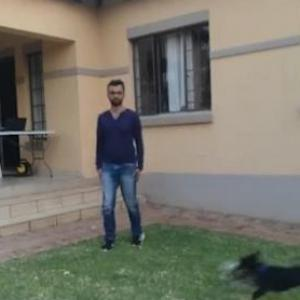follow: (91, 78, 146, 251)
